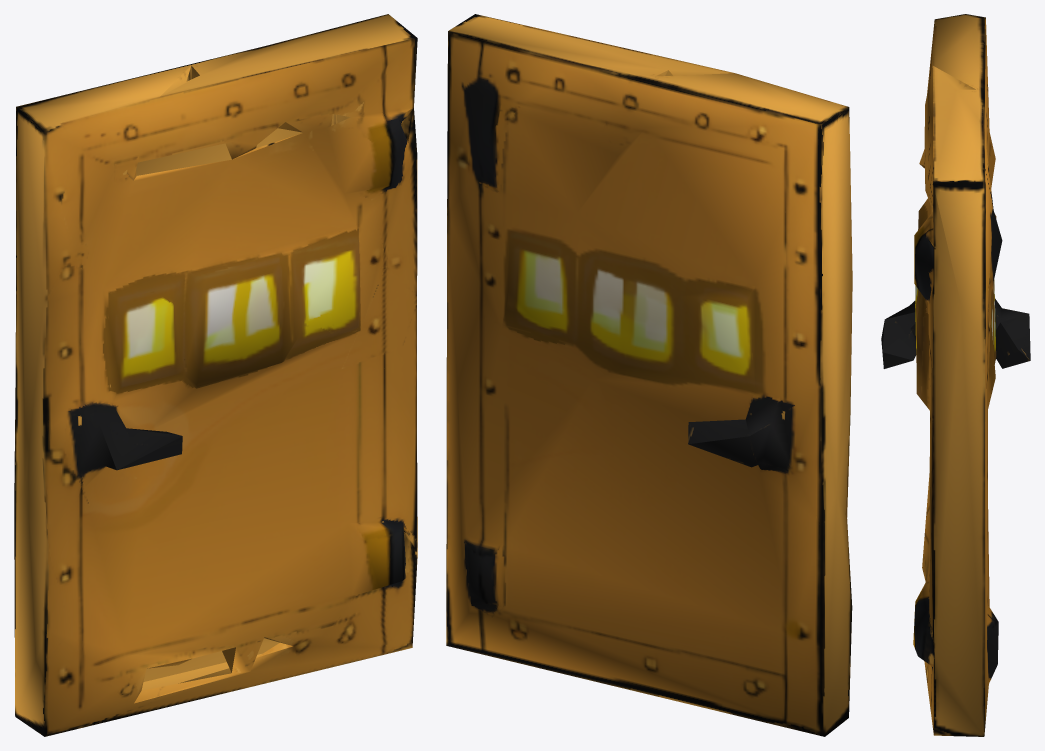
Rendered from exit-door-br.glb.
The picture shows the model from 3 angles, left to right: view 1: azimuth 30°, elevation 25°; view 2: azimuth 150°, elevation 25°; view 3: azimuth 270°, elevation 25°; orthographic projection. The views are drawn at different scales.
Visible parts, largest first — view 1: geometry_0.001; view 2: geometry_0.001; view 3: geometry_0.001.
Boxes of the visible parts, bbox=[...] form: geometry_0.001: bbox=[14, 14, 417, 736]; geometry_0.001: bbox=[446, 14, 852, 736]; geometry_0.001: bbox=[881, 14, 1030, 736].
Bounding box in the file's own units: 0.6417 × 0.9988 × 0.2413.
1 material, 1 textured.
